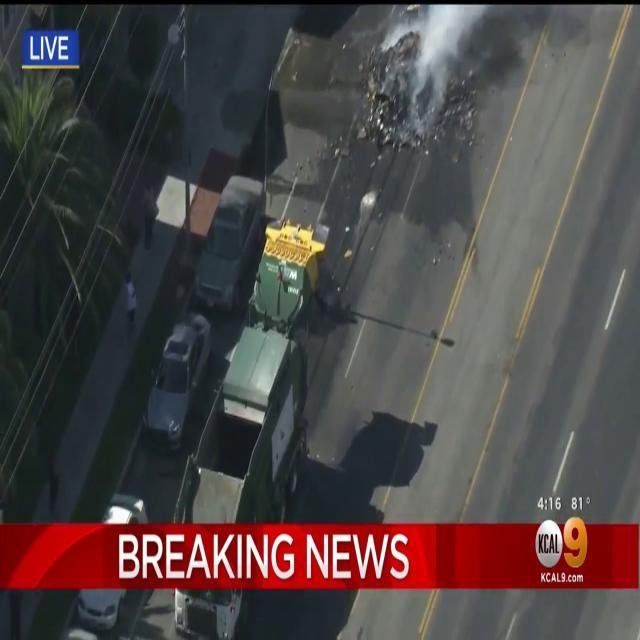Smoke: (402, 3, 472, 142)
